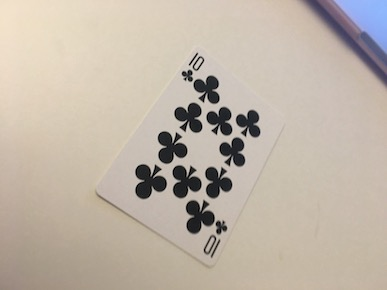TenOfClubs: (91, 46, 287, 272)
